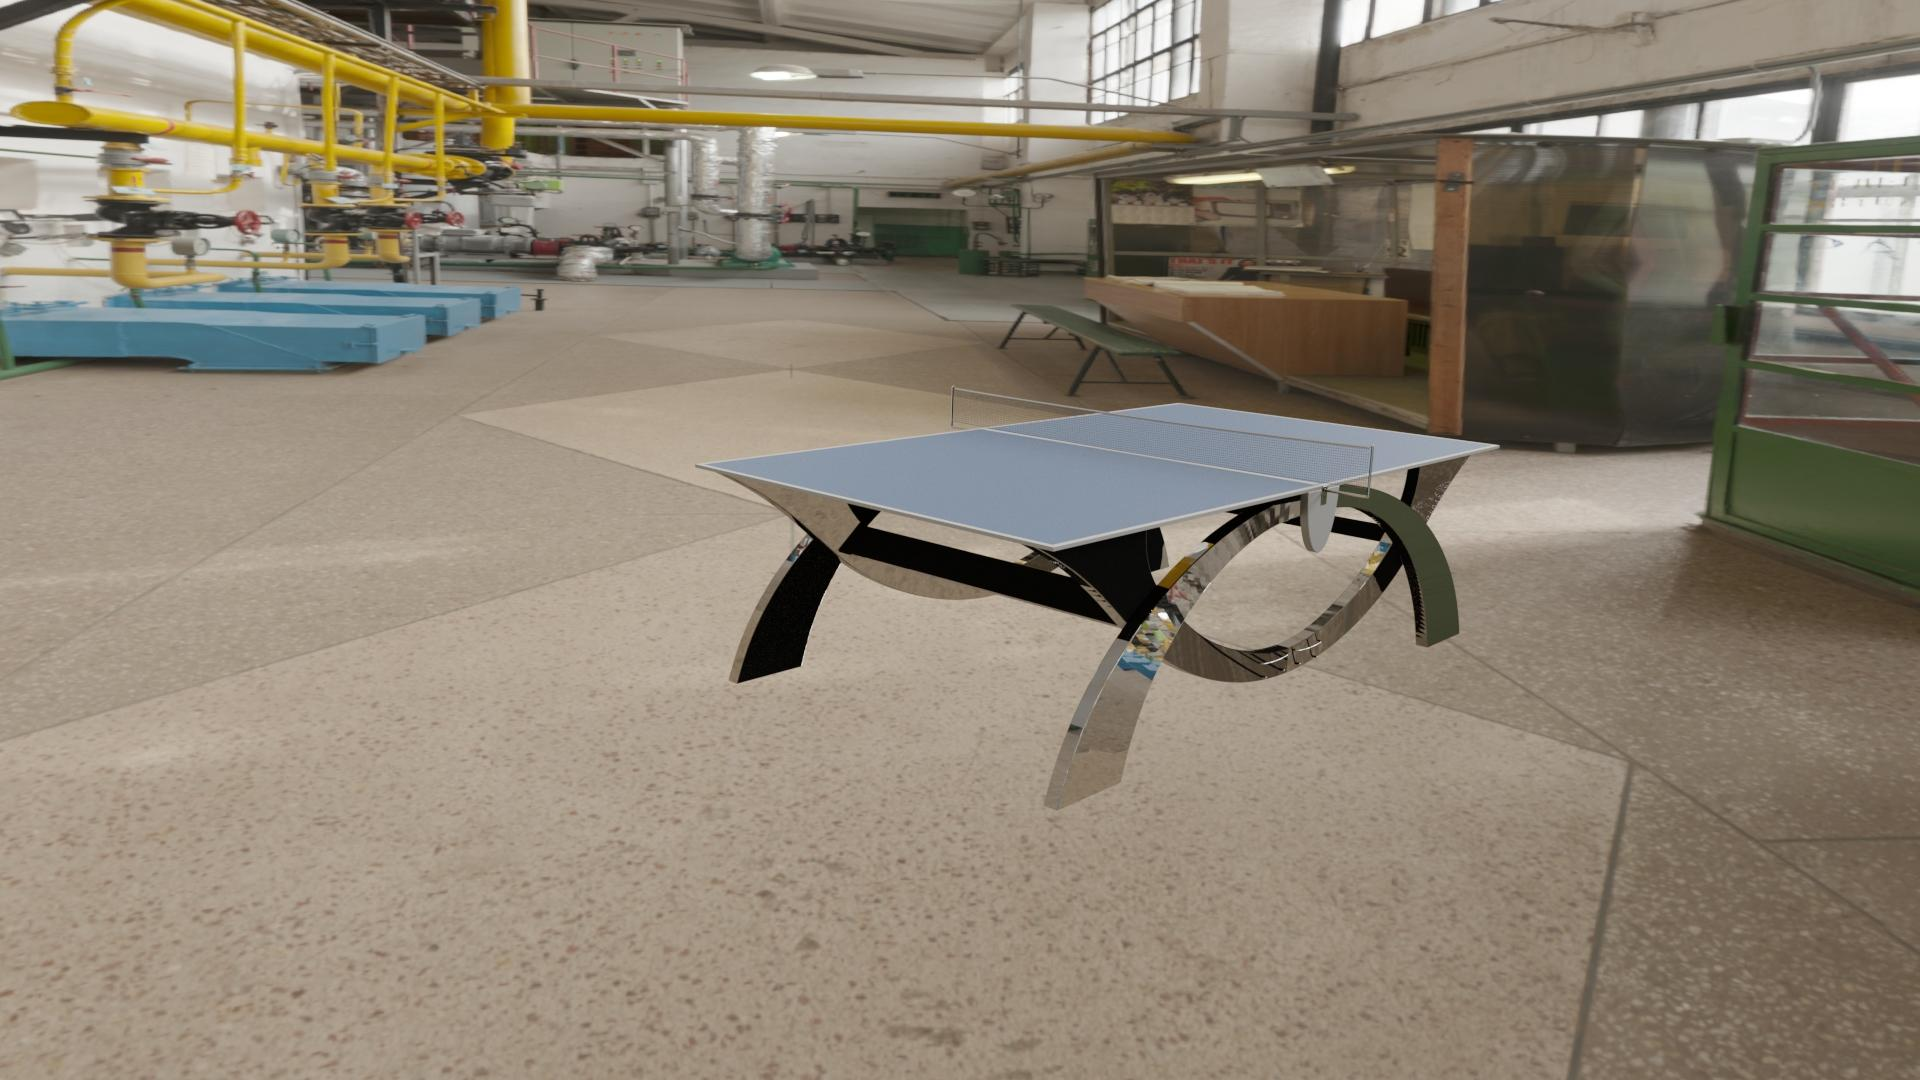table: (704, 404, 1493, 545)
